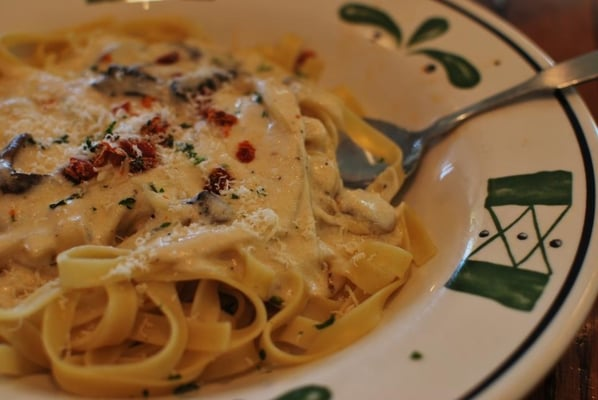salad: (358, 50, 597, 200)
sushi: (0, 1, 598, 394)
